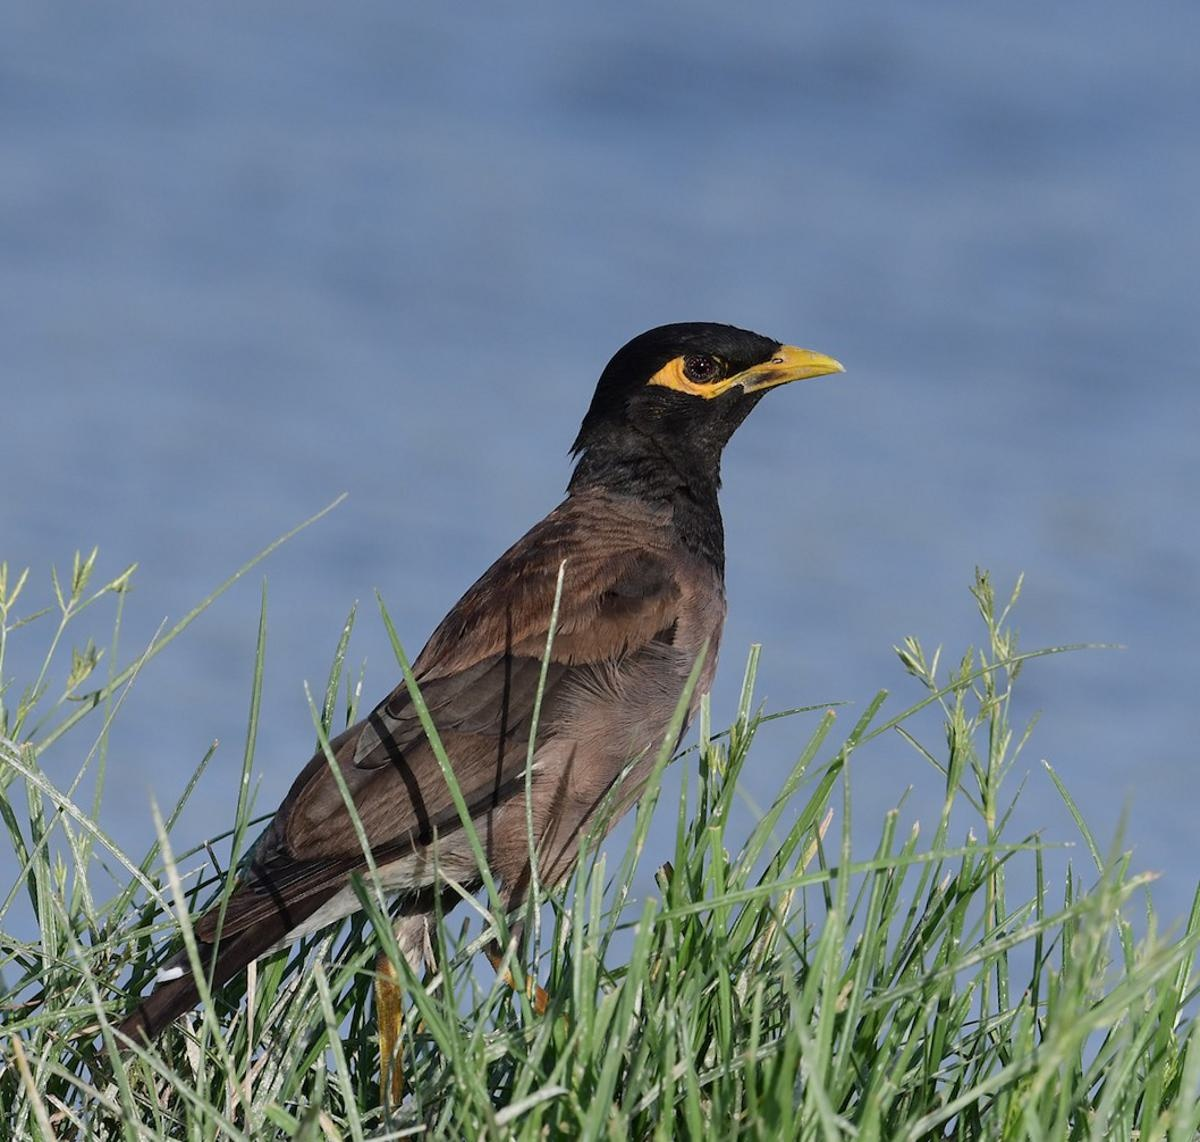myna: (179, 301, 864, 1037)
